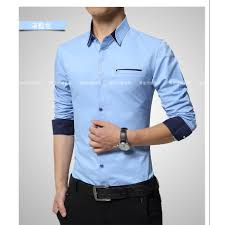F_shirt: (49, 21, 199, 187)
